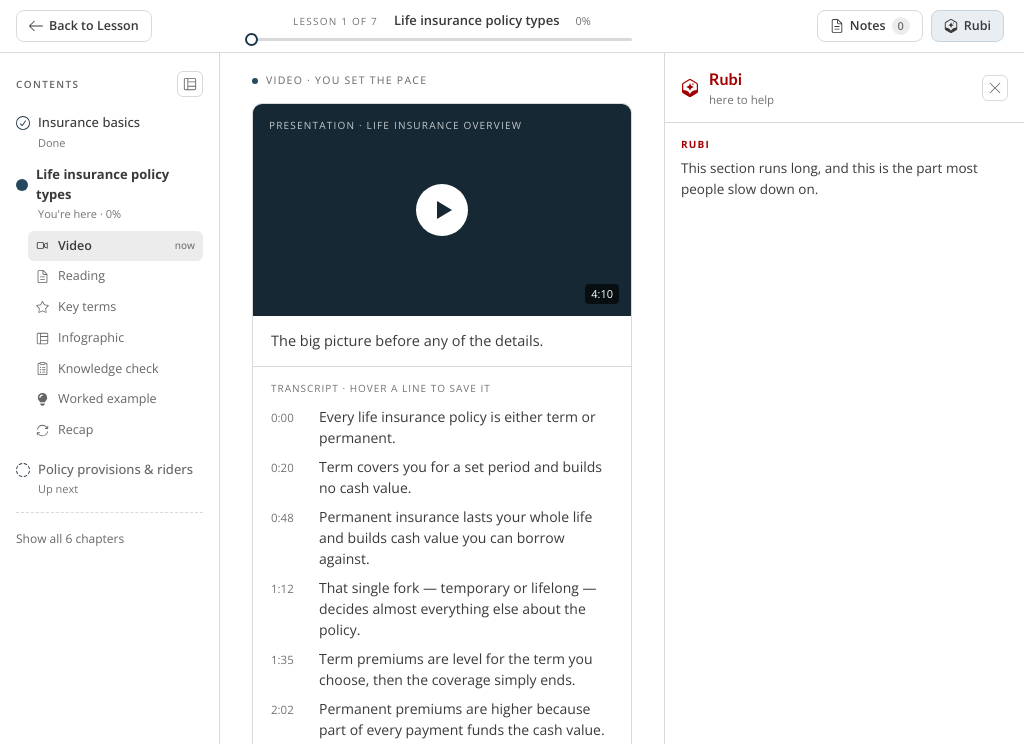
Test: the Knowledge check › off: the original radio list is back, revealing on pick
Click the button "Knowledge check".
click(116, 369)  # box [28,354,203,384]
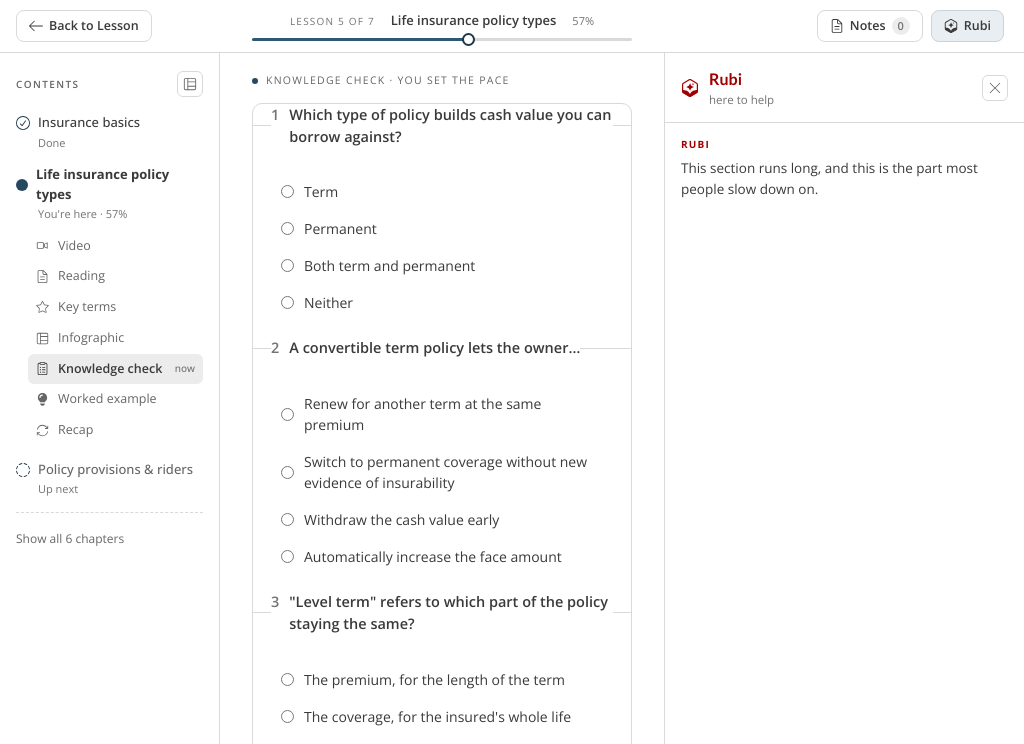
Click the radio button labelled "Permanent".
click(288, 229)  # box [281,222,294,235]
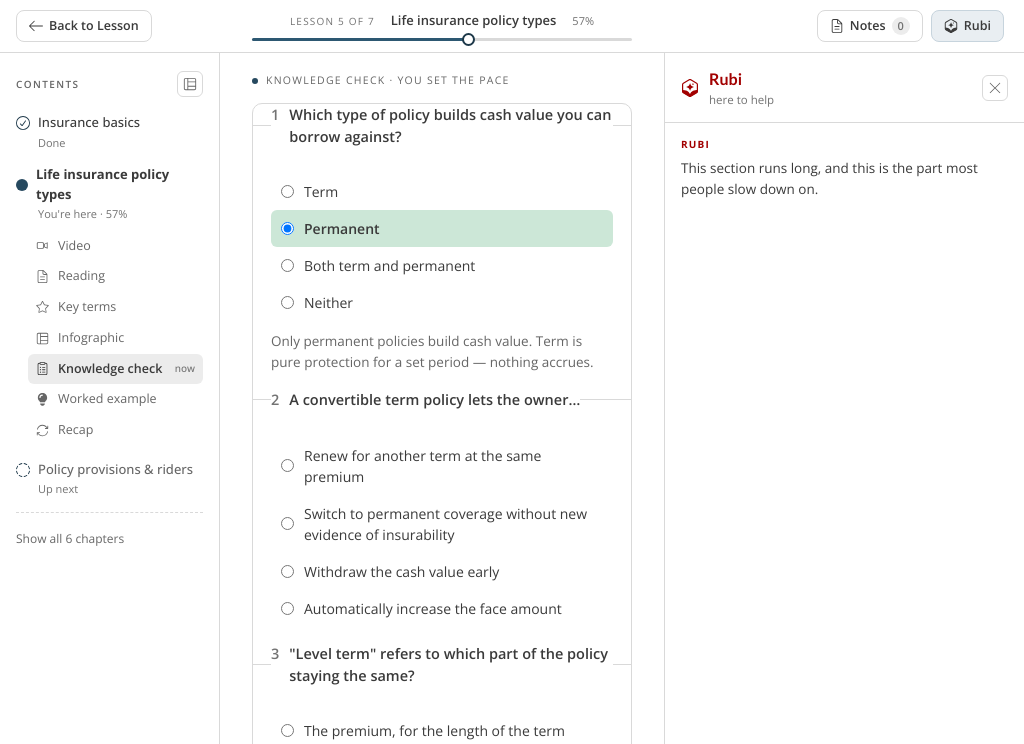
Now the text "Only permanent policies build cash value. Term is pure protection for a set period — nothing accrues." is shown, box [271,332,594,371]
